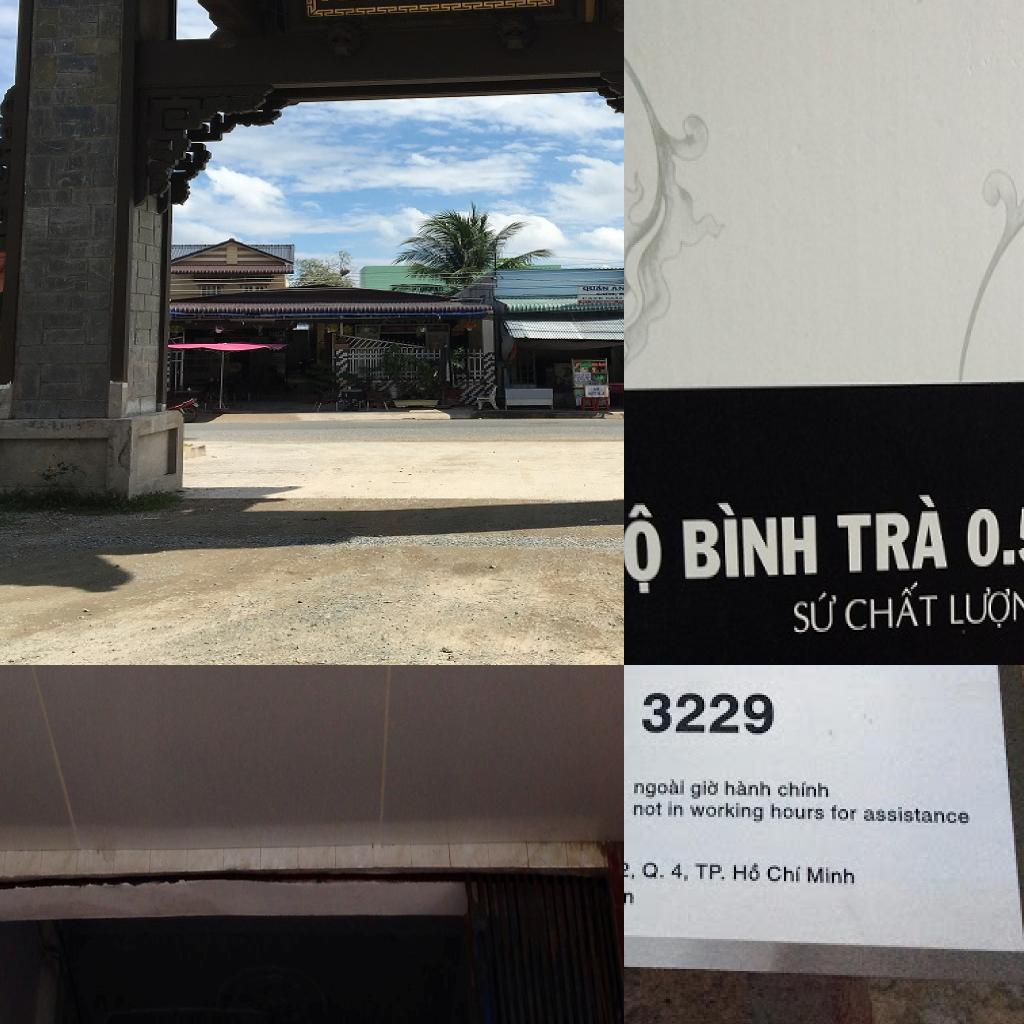text: (676, 499, 822, 585), (831, 493, 953, 577), (624, 687, 778, 739), (839, 579, 945, 634), (958, 499, 1024, 570), (624, 498, 663, 605), (943, 583, 1024, 634), (786, 589, 846, 638), (862, 805, 972, 827), (688, 801, 766, 825), (632, 777, 688, 801), (806, 865, 858, 889), (776, 779, 832, 801), (770, 803, 828, 823), (724, 779, 774, 799), (766, 863, 804, 887), (694, 861, 730, 883), (732, 863, 764, 885), (828, 803, 860, 825), (690, 779, 720, 801), (670, 859, 694, 885), (632, 801, 664, 819), (642, 859, 668, 881), (666, 801, 686, 821), (624, 857, 638, 881), (580, 285, 611, 292), (611, 285, 624, 293)
